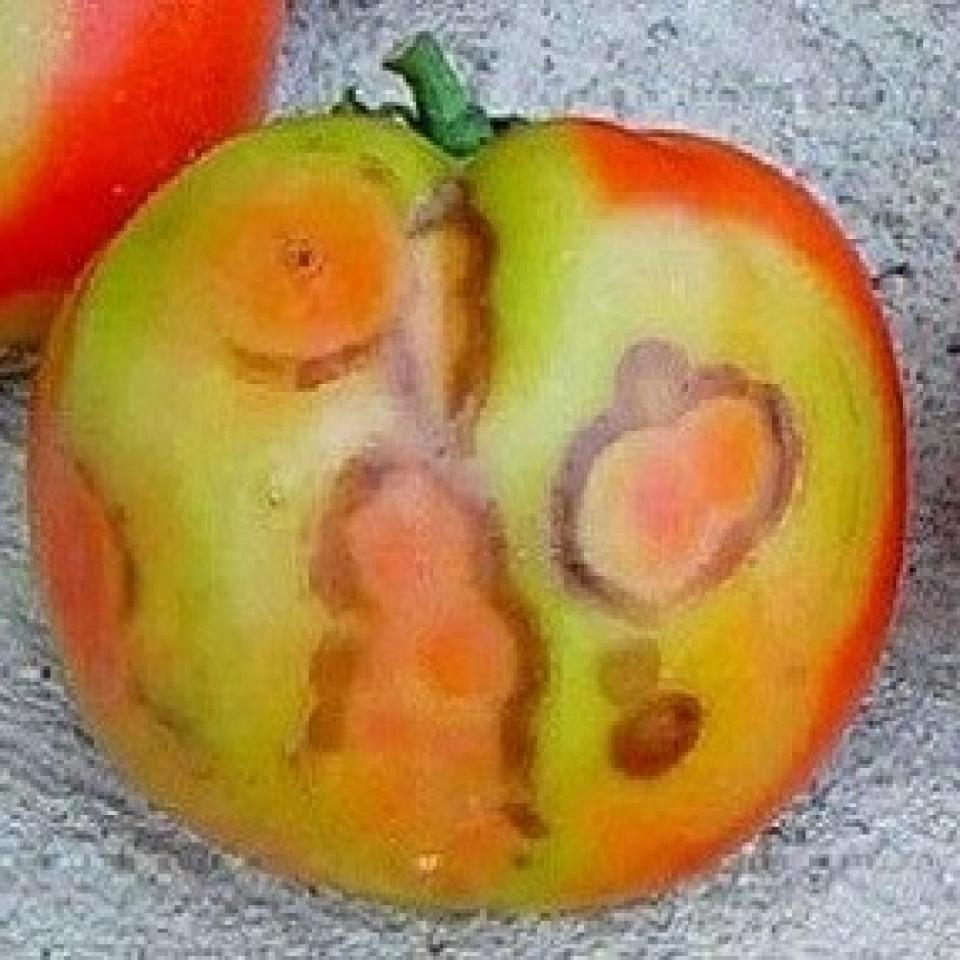Spotted wilt Virus: (34, 110, 910, 913)
